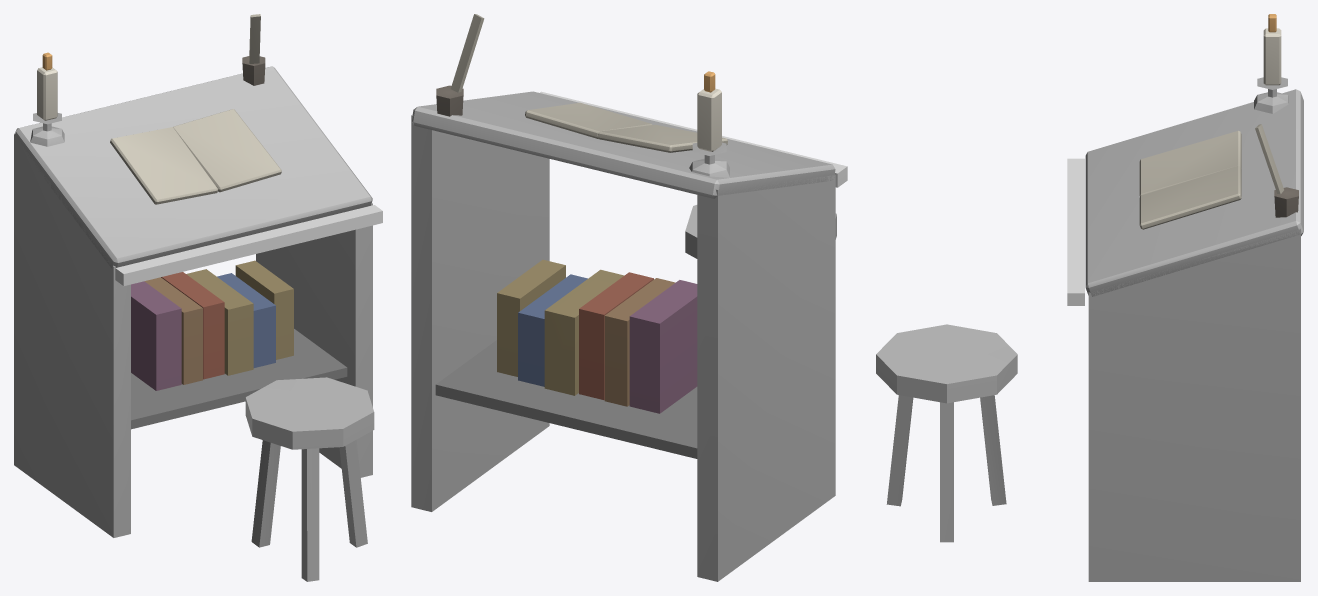
File: writing_desk_unlit.glb
3 renders of one model, left to right at view 1: azimuth 30°, elevation 25°; view 2: azimuth 150°, elevation 25°; view 3: azimuth 270°, elevation 25°, orthographic. The views are drawn at different scales.
Visible parts, largest first — view 1: book; view 2: book; view 3: book.
Boxes of the visible parts, x1,y1,x2,y2 form: book: [14, 14, 382, 581]; book: [411, 14, 847, 581]; book: [876, 14, 1303, 581].
Bounding box in the file's own units: 0.9 × 1.38 × 1.21.
